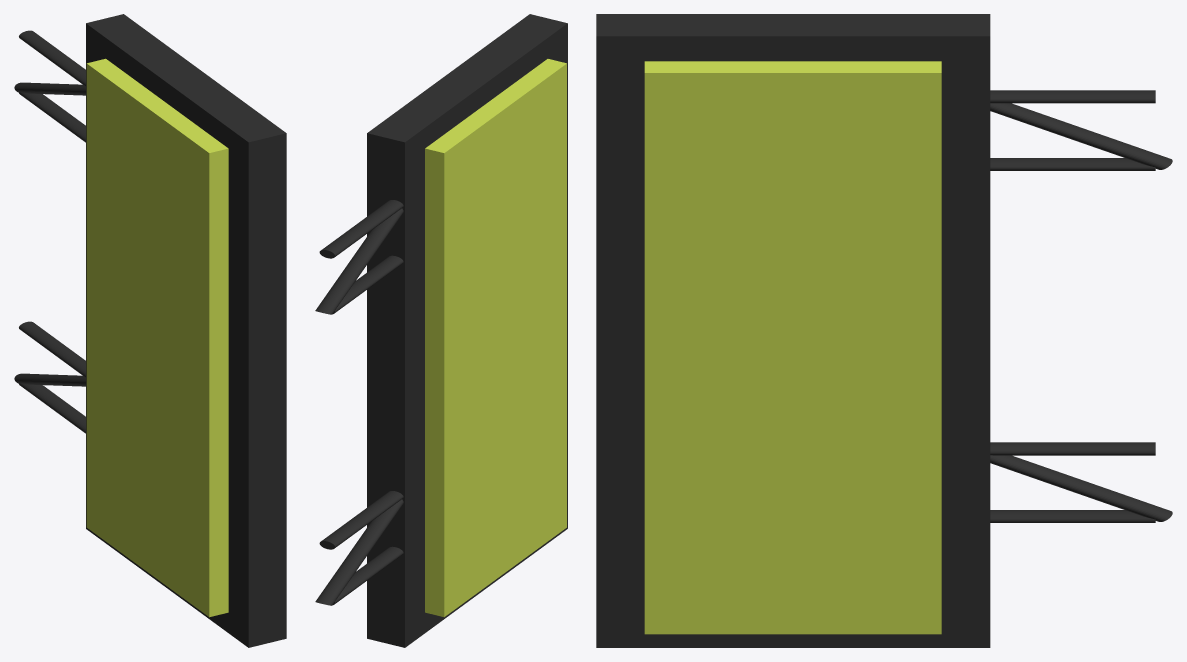
File: sign_001.glb
3 renders of one model, left to right at view 1: azimuth 30°, elevation 25°; view 2: azimuth 150°, elevation 25°; view 3: azimuth 270°, elevation 25°, orthographic. The views are drawn at different scales.
Parts seen in each view (by area): view 1: sign_main, sign_border, support_bottom, support_top; view 2: sign_main, sign_border, support_bottom, support_top; view 3: sign_main, sign_border, support_top, support_bottom.
Part boxes in pixels (x1,y1,x2,y2): sign_main: (86,58,228,617); sign_border: (86,14,286,647); support_bottom: (14,321,85,433); support_top: (14,30,85,142); sign_main: (425,59,566,617); sign_border: (367,14,567,647); support_bottom: (315,491,403,605); support_top: (315,200,403,314); sign_main: (644,61,941,634); sign_border: (596,14,990,647); support_top: (990,90,1172,170); support_bottom: (990,442,1172,522).
Bounding box in the file's own units: 1.22 × 7.68 × 6.56.
